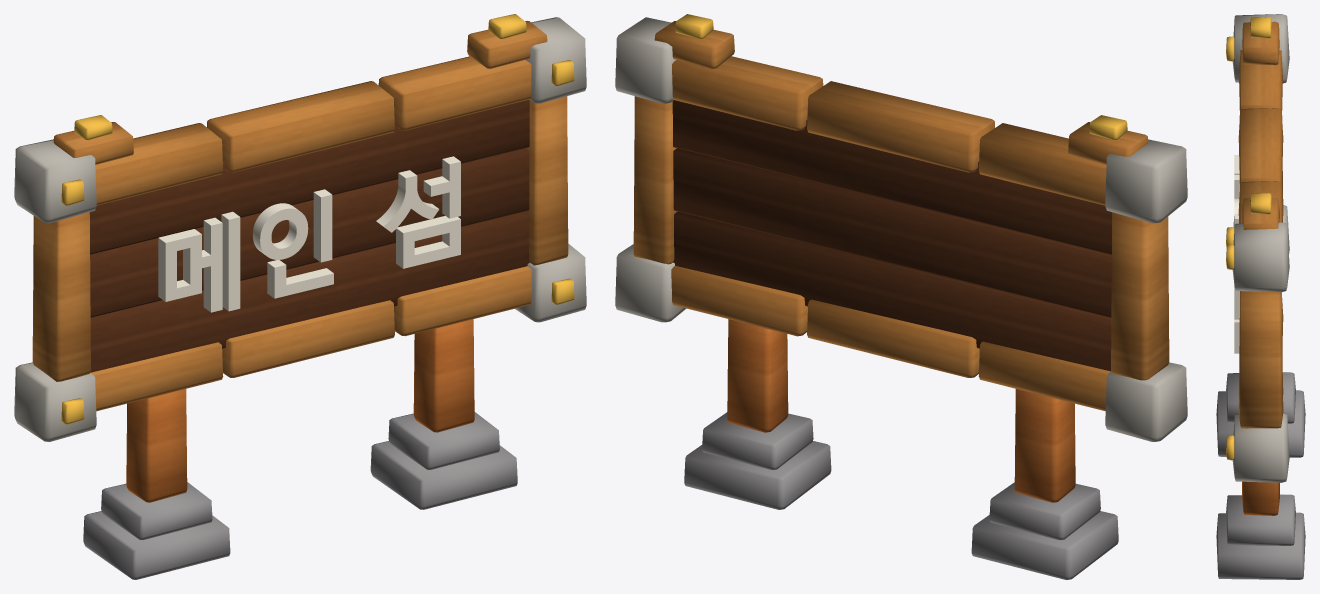
The model's file is OBJ17_sign_main.glb.
3 views of the same model, side by side, from view 1: azimuth 30°, elevation 25°; view 2: azimuth 150°, elevation 25°; view 3: azimuth 270°, elevation 25° (orthographic). The views are drawn at different scales.
Parts seen in each view (by area): view 1: Frame, Plank_0, Plank_2, Label, Plank_1, Leg_-1, Leg_1, FootLow_-1, FootLow_1, CornerCap_-1_1, CornerCap_-1_-1, FootUp_1 (+7 smaller); view 2: Frame, Plank_1, Plank_0, Plank_2, Leg_-1, Leg_1, FootLow_-1, FootLow_1, CornerCap_-1_1, CornerCap_-1_-1, FootUp_1, FootUp_-1 (+6 smaller); view 3: Frame, FootLow_1, CornerCap_1_1, CornerCap_1_-1, FootUp_1, FootLow_-1, CornerCap_-1_1, TopBlock_-1, Leg_1, FootUp_-1, TopBlock_1, Label (+7 smaller).
Boxes of the visible parts, box(x1,y1,x2,y2) form: Frame: box(32, 56, 568, 411); Plank_0: box(90, 211, 529, 372); Plank_2: box(89, 100, 529, 254); Label: box(158, 156, 460, 312); Plank_1: box(90, 148, 529, 317); Leg_-1: box(126, 389, 187, 502); Leg_1: box(413, 319, 474, 432); FootLow_-1: box(83, 511, 230, 579); FootLow_1: box(370, 441, 517, 509); CornerCap_-1_1: box(14, 139, 96, 223); CornerCap_-1_-1: box(14, 362, 96, 441); FootUp_1: box(388, 412, 499, 469); Frame: box(633, 56, 1169, 411); Plank_1: box(673, 148, 1111, 317); Plank_0: box(673, 211, 1111, 371); Plank_2: box(672, 100, 1111, 254); Leg_-1: box(1014, 389, 1075, 502); Leg_1: box(727, 319, 788, 432); FootLow_-1: box(971, 511, 1118, 579); FootLow_1: box(684, 441, 831, 509); CornerCap_-1_1: box(1105, 139, 1187, 223); CornerCap_-1_-1: box(1105, 362, 1187, 441); FootUp_1: box(702, 412, 813, 469); FootUp_-1: box(989, 482, 1100, 540); Frame: box(1238, 50, 1283, 428); FootLow_1: box(1216, 512, 1305, 579); CornerCap_1_1: box(1232, 222, 1289, 292); CornerCap_1_-1: box(1232, 413, 1289, 482); FootUp_1: box(1226, 494, 1295, 545); FootLow_-1: box(1216, 390, 1305, 457); CornerCap_-1_1: box(1232, 14, 1289, 83); TopBlock_-1: box(1242, 21, 1279, 65); Leg_1: box(1242, 481, 1279, 515); FootUp_-1: box(1226, 372, 1295, 423); TopBlock_1: box(1242, 198, 1279, 229); Label: box(1234, 155, 1239, 353).
Size of the model in its own units: 1.73 by 1.35 by 0.28.
Materials: 7 (3 with a texture image).
